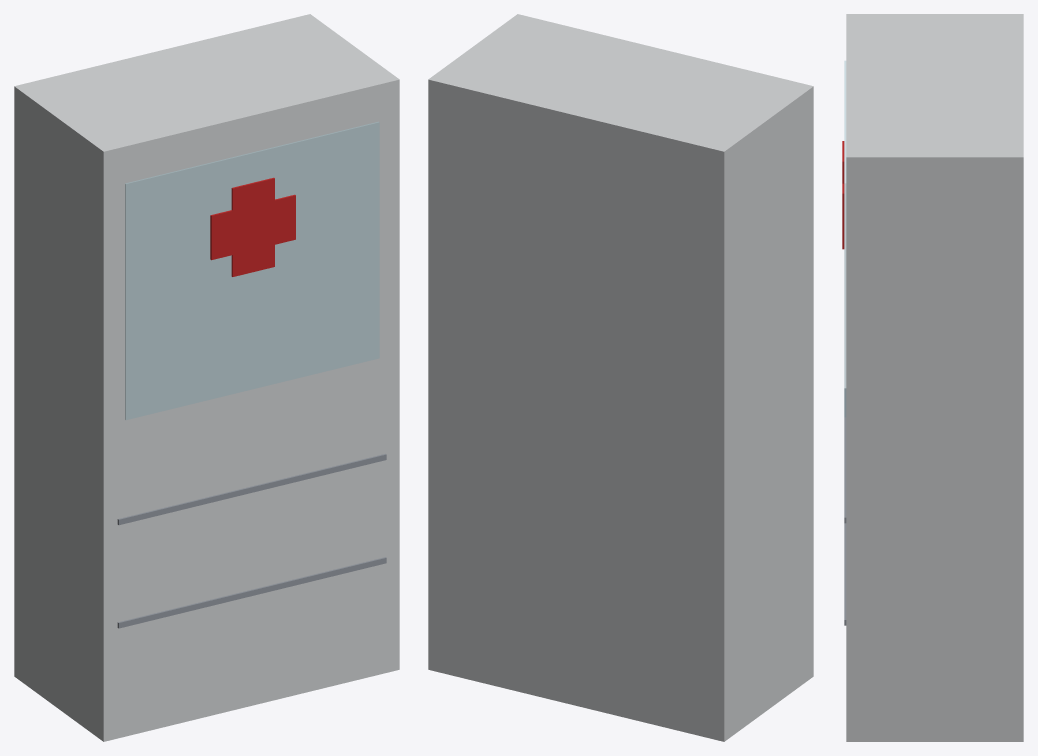
Rendered from hos-armario.gltf.
3 views of the same model, side by side, from view 1: azimuth 30°, elevation 25°; view 2: azimuth 150°, elevation 25°; view 3: azimuth 270°, elevation 25° (orthographic).
Parts seen in each view (by area): view 1: hos-armario; view 2: hos-armario; view 3: hos-armario.
Part boxes in pixels (x1,y1,x2,y2): hos-armario: [14, 14, 399, 741]; hos-armario: [428, 14, 813, 741]; hos-armario: [842, 14, 1023, 741].
Size of the model in its own units: 0.84 by 1.6 by 0.45.
